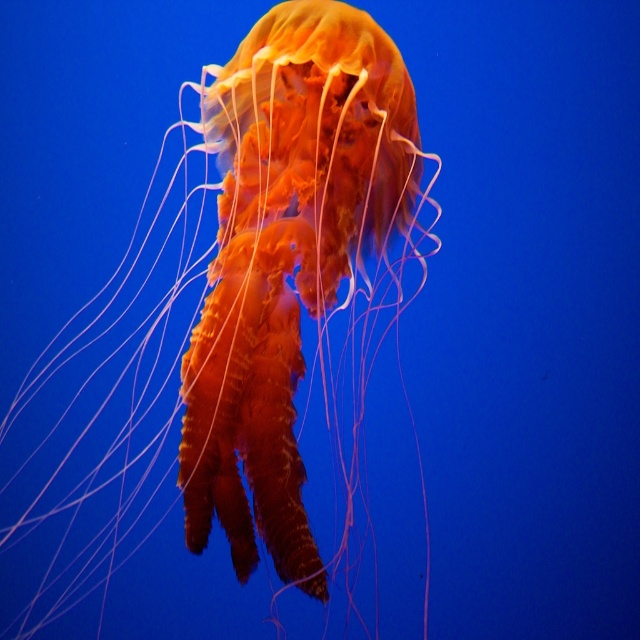Jellyfish: (0, 0, 442, 640)
